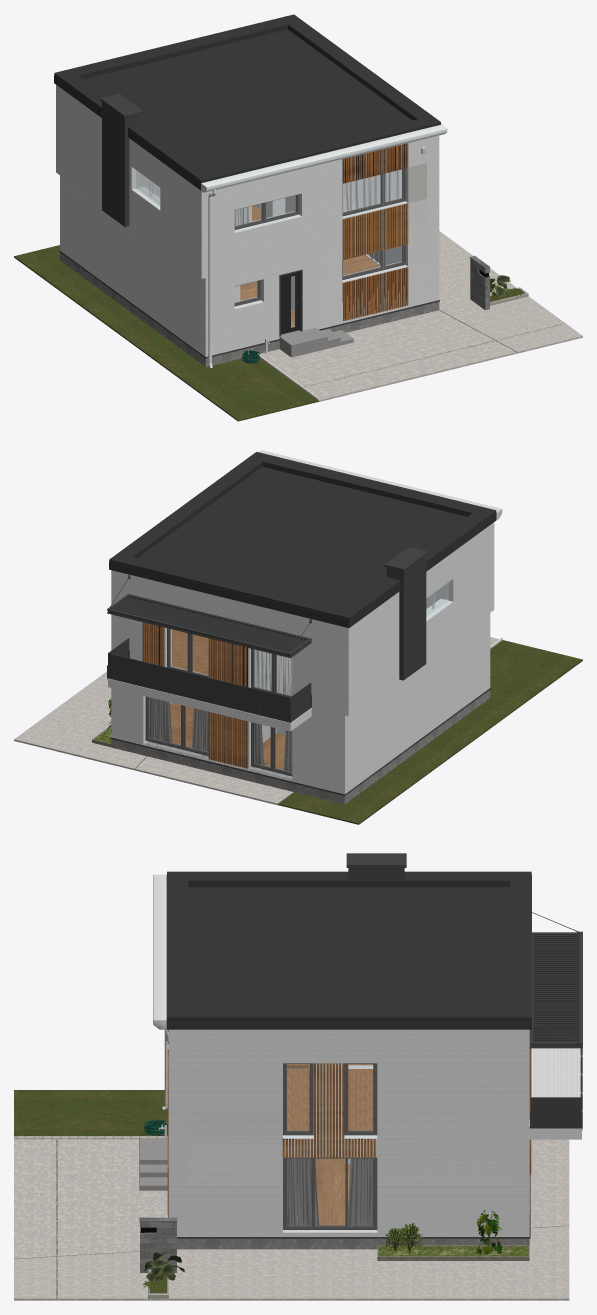
The model's file is atlas-alpha-webp.glb.
3 renders of one model, top to bottom at view 1: azimuth 30°, elevation 25°; view 2: azimuth 150°, elevation 25°; view 3: azimuth 270°, elevation 25°, orthographic. The views are drawn at different scales.
Visible parts, largest first — view 1: wallpaint, roofMetal, concreteFloor, garden, wood, windows, house.chimney, base, Rain gutter, Curtain01.002, frontdoorStair, door (+4 smaller); view 2: wallpaint, roofMetal, Balcony railing, garden, windows, concreteFloor, base, wood, house.chimney, floors, Curtain02, Curtain01.002 (+1 smaller); view 3: wallpaint, roofMetal, concreteFloor, windows, Balcony railing, garden, floors, wood, base, Curtain02, masonry_atlas, plants_atlas (+4 smaller).
Part boxes in pixels (x1,y1,x2,y2): wallpaint: (56, 85, 439, 356); roofMetal: (54, 14, 440, 190); concreteFloor: (260, 231, 582, 401); garden: (14, 245, 318, 421); wood: (342, 143, 408, 321); windows: (132, 168, 407, 309); house.chimney: (100, 93, 143, 226); base: (59, 250, 439, 366); Rain gutter: (201, 124, 447, 192); Curtain01.002: (234, 169, 401, 225); frontdoorStair: (279, 326, 353, 357); door: (279, 269, 302, 336); wallpaint: (107, 522, 494, 794); roofMetal: (109, 452, 496, 627); Balcony railing: (107, 574, 312, 722); garden: (278, 640, 582, 824); windows: (143, 582, 452, 779); concreteFloor: (14, 637, 499, 805); base: (110, 687, 491, 804); wood: (142, 622, 247, 768); house.chimney: (384, 547, 428, 680); floors: (170, 629, 285, 769); Curtain02: (149, 697, 292, 776); Curtain01.002: (254, 649, 292, 695); wallpaint: (168, 1029, 582, 1236); roofMetal: (166, 871, 531, 1029); concreteFloor: (14, 1139, 569, 1300); windows: (283, 1063, 377, 1229); Balcony railing: (529, 912, 582, 1128); garden: (14, 1090, 167, 1136); floors: (287, 1064, 373, 1225); wood: (167, 1029, 531, 1214); base: (168, 1174, 530, 1249); Curtain02: (287, 1158, 373, 1225); masonry_atlas: (139, 1217, 529, 1298); plants_atlas: (143, 1210, 502, 1293).
Bounding box in the file's own units: 10.73 × 6.03 × 12.37.
Materials: 27 (18 with a texture image).
